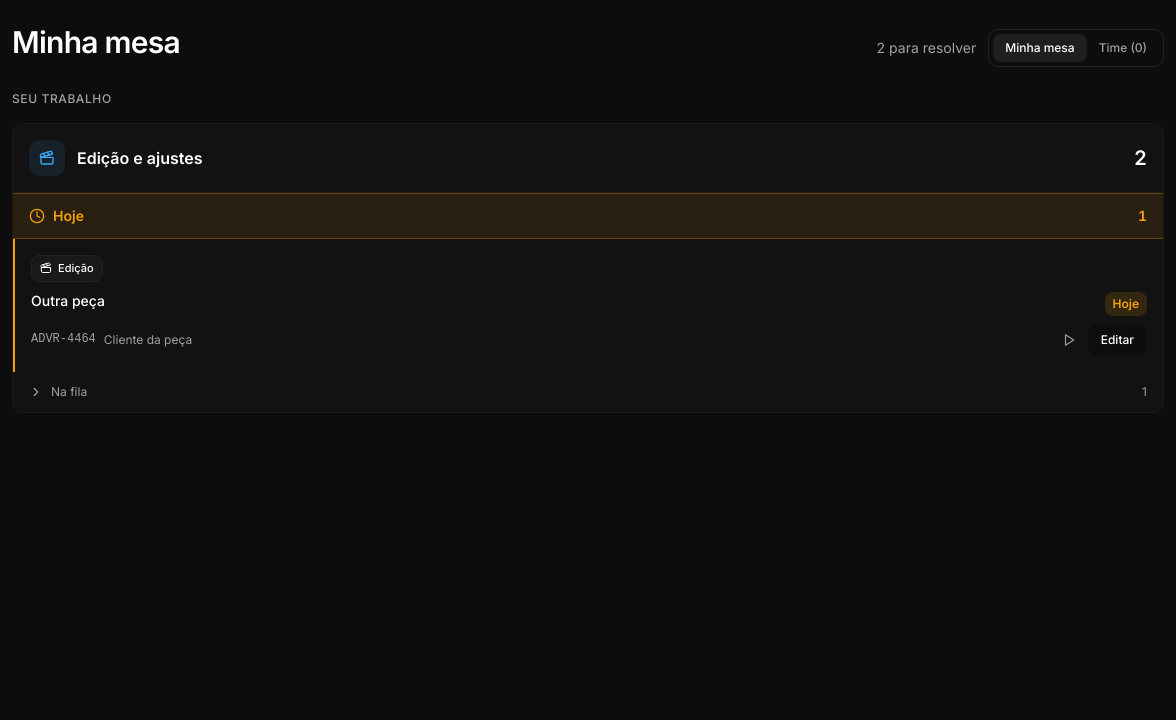
Test: Minha mesa › expande a fila preservando o link da peça e seus atalhos
The image size is (1176, 720).
What coordinates should you click on to do the following:
click the button "Na fila 1"
I would click on:
 (69, 391)
Its box is left=13, top=372, right=1163, bottom=412.
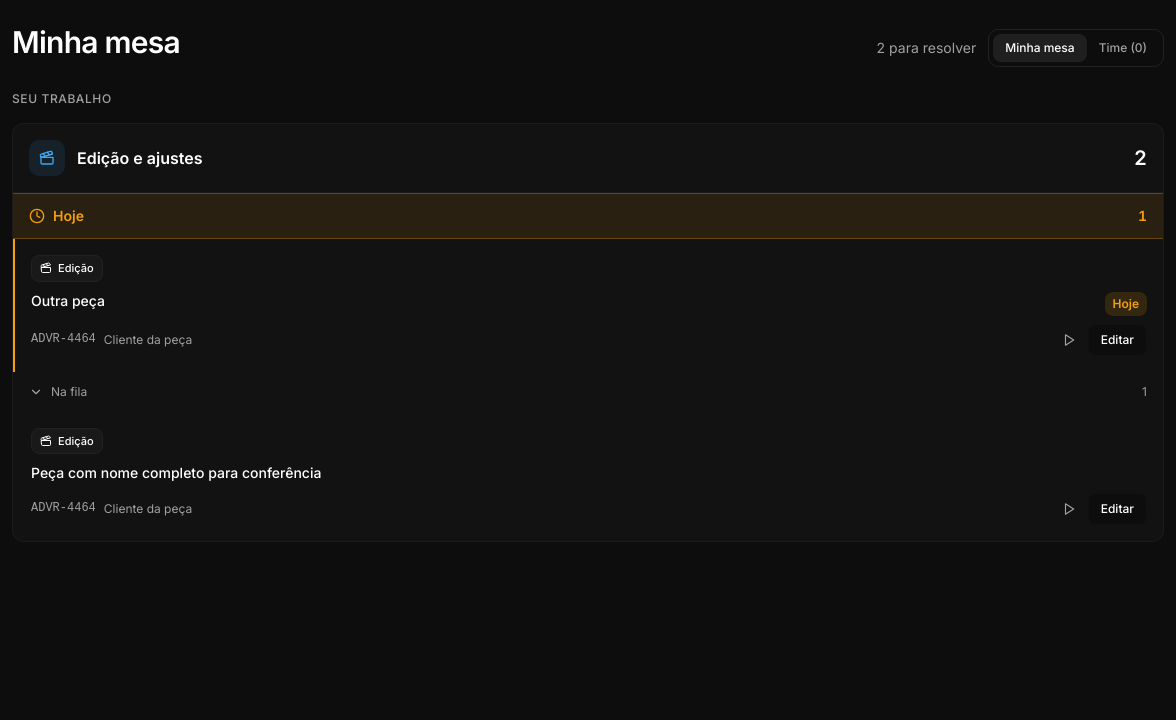
Now the number of buttons "Editar" is 2, box left=1088, top=324, right=1147, bottom=356; left=1088, top=493, right=1147, bottom=525
Now the number of buttons named "Rastrear horas nesta peça" is 2, box left=1056, top=326, right=1082, bottom=352; left=1056, top=496, right=1082, bottom=522
Now the button "Na fila 1" is expanded, box left=13, top=372, right=1163, bottom=412
